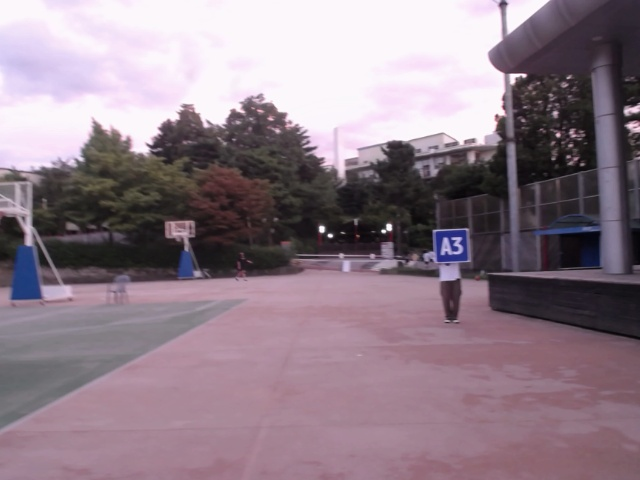delivery_a3: (433, 230, 471, 263)
